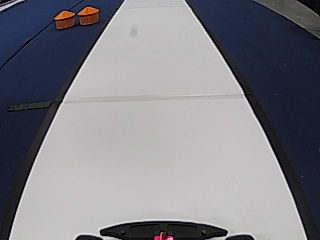granary: (77, 5, 99, 25), (52, 9, 74, 29)
